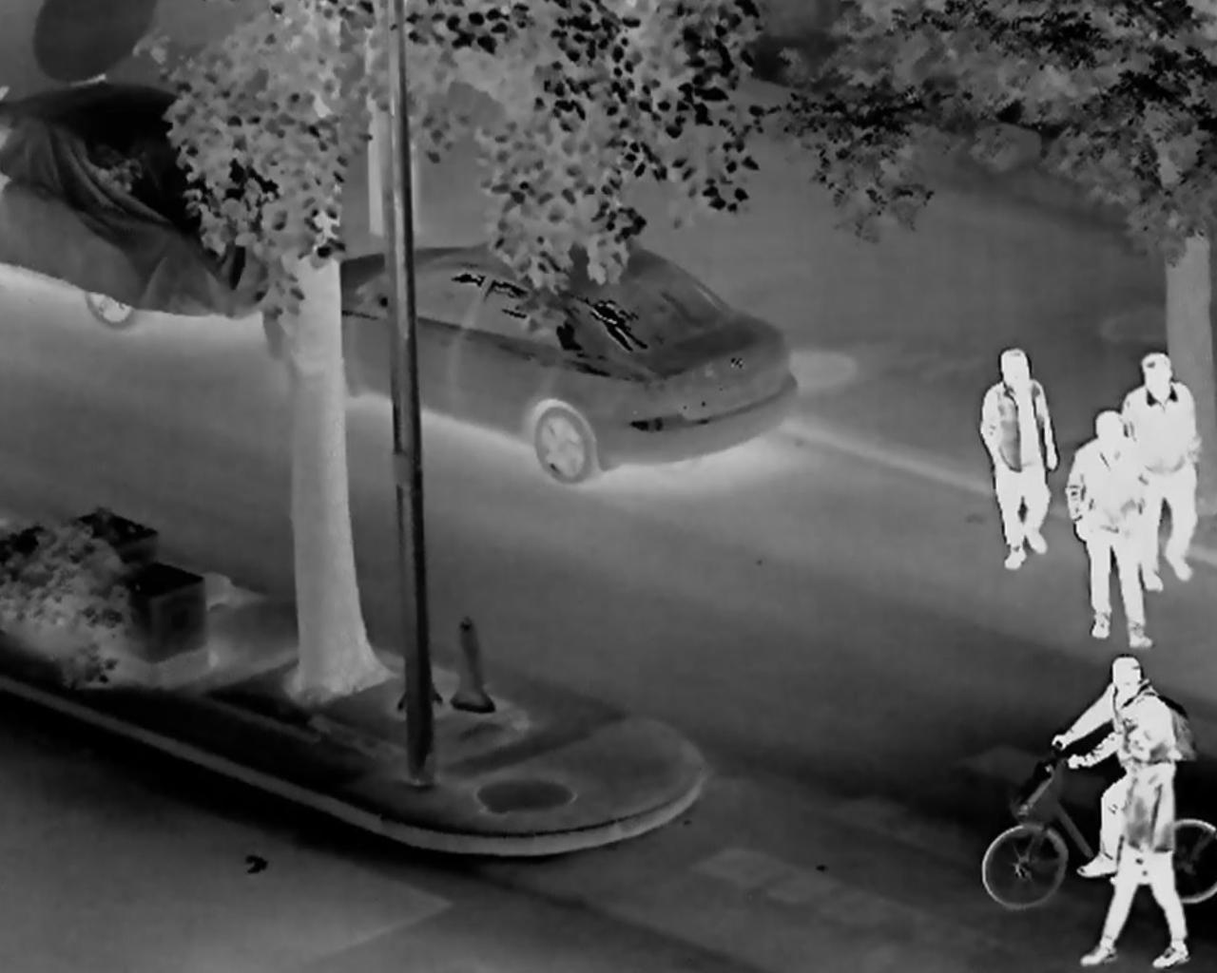person: (1057, 658, 1177, 888), (1083, 724, 1191, 966), (1067, 410, 1152, 652), (1120, 353, 1201, 594), (978, 345, 1054, 567)
